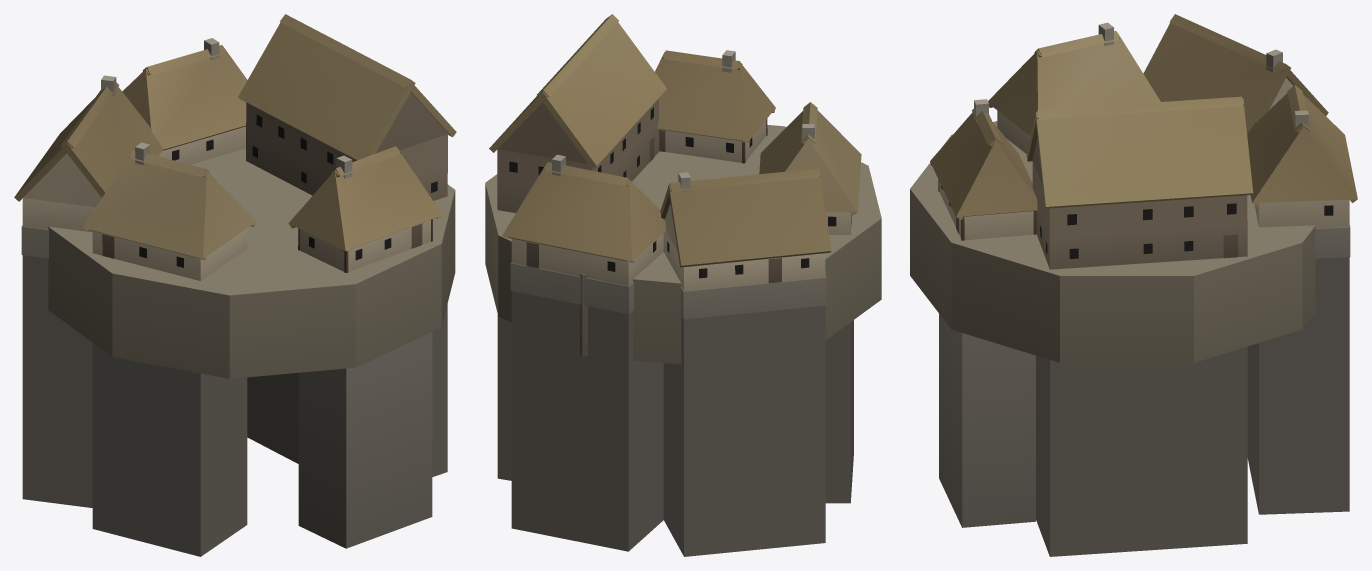
File: hamlet_c.glb
3 renders of one model, left to right at view 1: azimuth 30°, elevation 25°; view 2: azimuth 150°, elevation 25°; view 3: azimuth 270°, elevation 25°, orthographic. The views are drawn at different scales.
Visible parts, largest first — view 1: hamlet_c; view 2: hamlet_c; view 3: hamlet_c.
Boxes of the visible parts, x1,y1,x2,y2 form: hamlet_c: [14, 14, 456, 556]; hamlet_c: [485, 14, 881, 556]; hamlet_c: [910, 14, 1357, 556].
Size of the model in its own units: 0.528 by 0.5617 by 0.5368.
